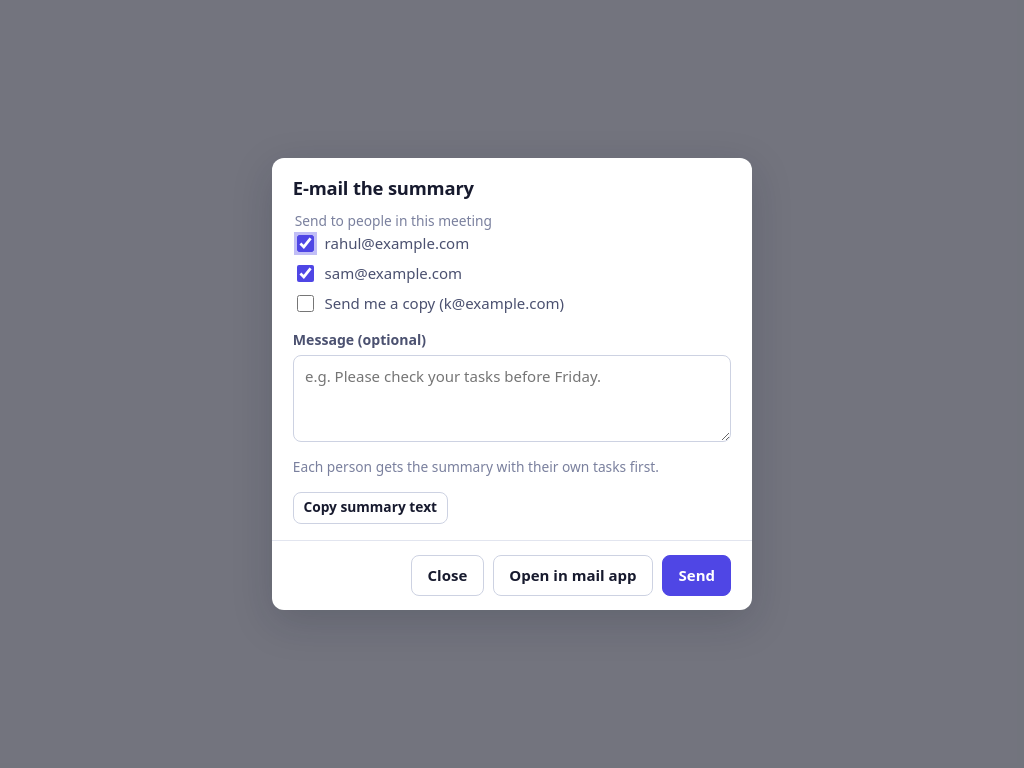
Scenario: the e-mail dialog › shows the server’s reason and stays open when sending fails
Click the button "Send" at (697, 575), box [662,555,731,596]
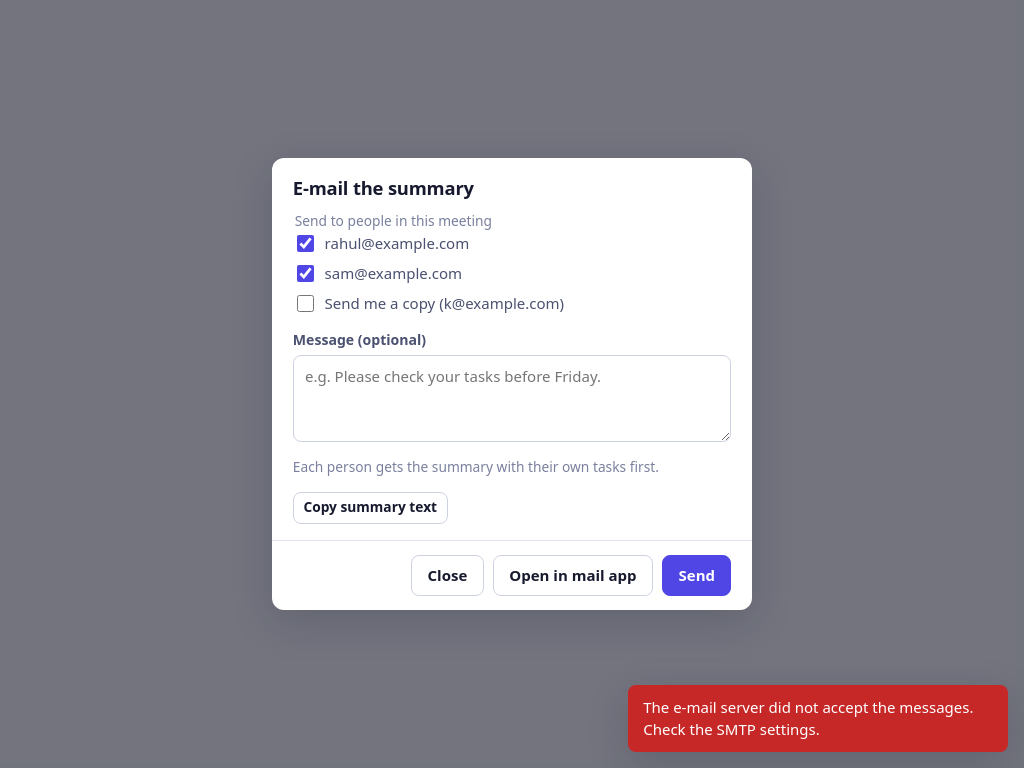
Now the text "The e-mail server did not accept the messages. Check the SMTP settings." is shown, box [628,685,1008,752]
